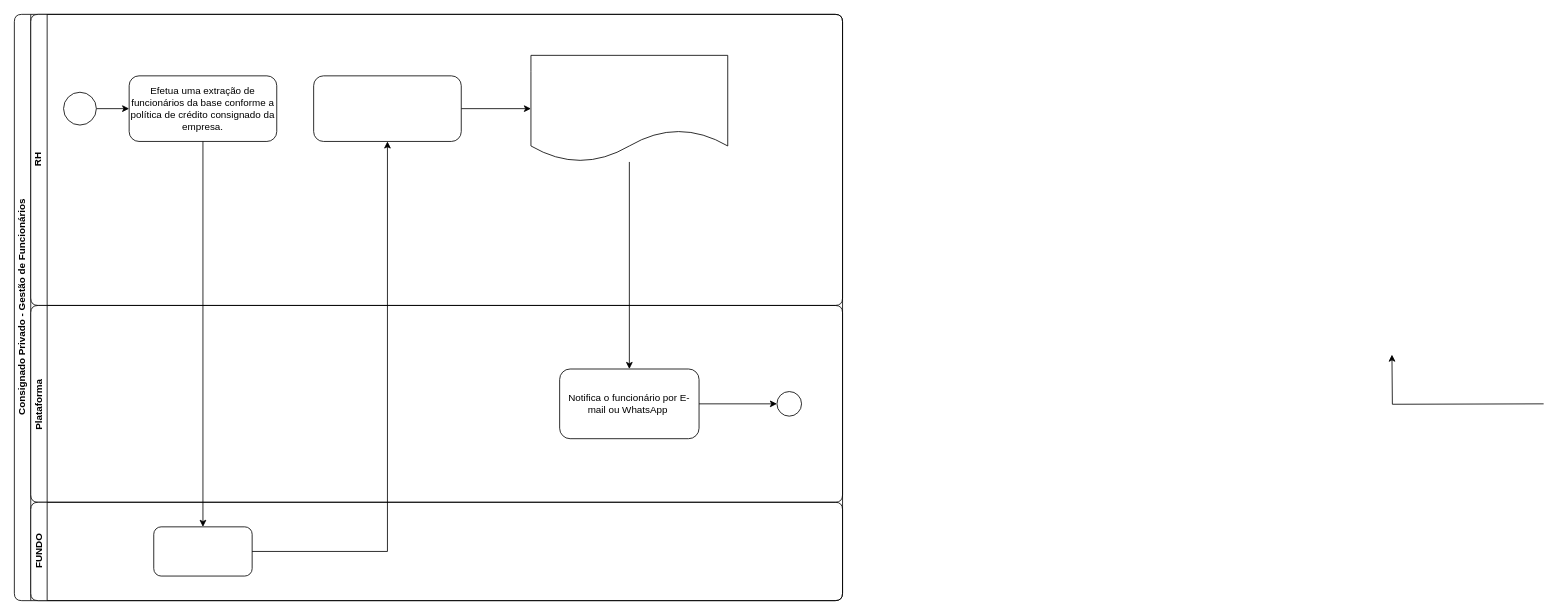
Image size: 1565x615. Some labels were removed from this diagram. Here are the shapes that lost their labels. From the top down, the centre of each, then its label:
At (x=387, y=108): "Efetua o upload na plataforma do consignado com a base de funcionário.".
At (x=629, y=108): "Cadastrado = 1 Apto = 2 Inapto = 3 Desligado = 4 Afastado = 5".
At (x=202, y=551): "Define a política de crédito.".
